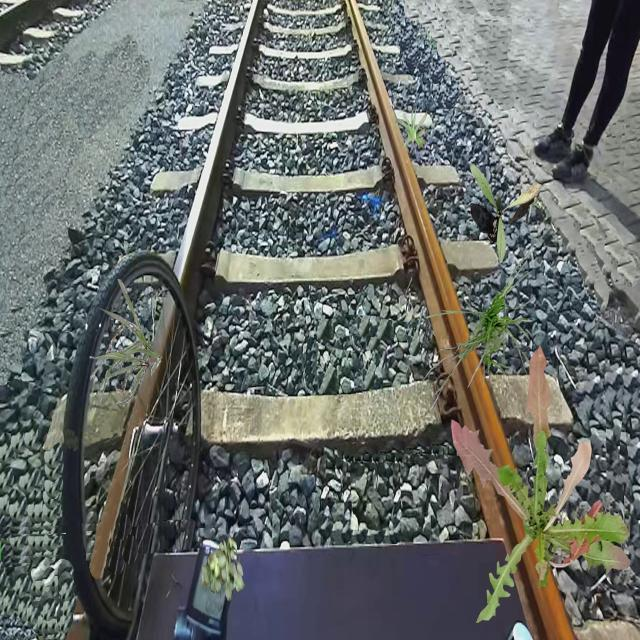Plant: (451, 345, 631, 623), (423, 248, 542, 412), (90, 279, 163, 404), (470, 164, 542, 264), (201, 535, 244, 602), (395, 105, 428, 151)
